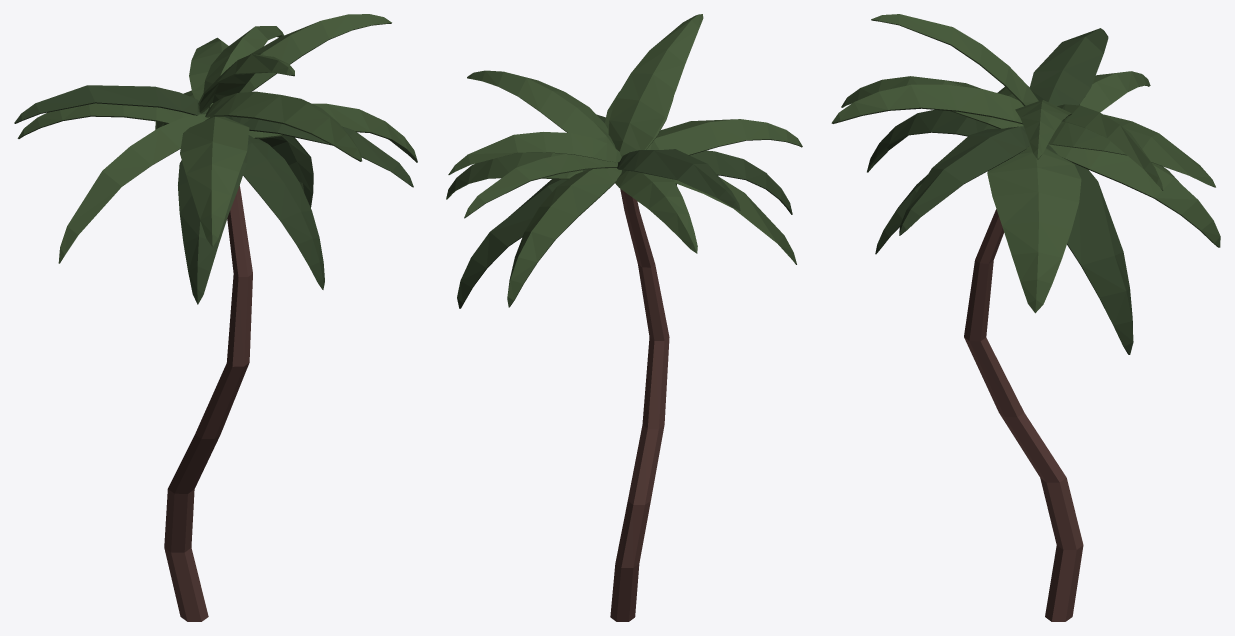
Rendered from palm-1.glb.
3 renders of one model, left to right at view 1: azimuth 30°, elevation 25°; view 2: azimuth 150°, elevation 25°; view 3: azimuth 270°, elevation 25°, orthographic. The views are drawn at different scales.
Size of the model in its own units: 2.88 by 4.47 by 2.61.
